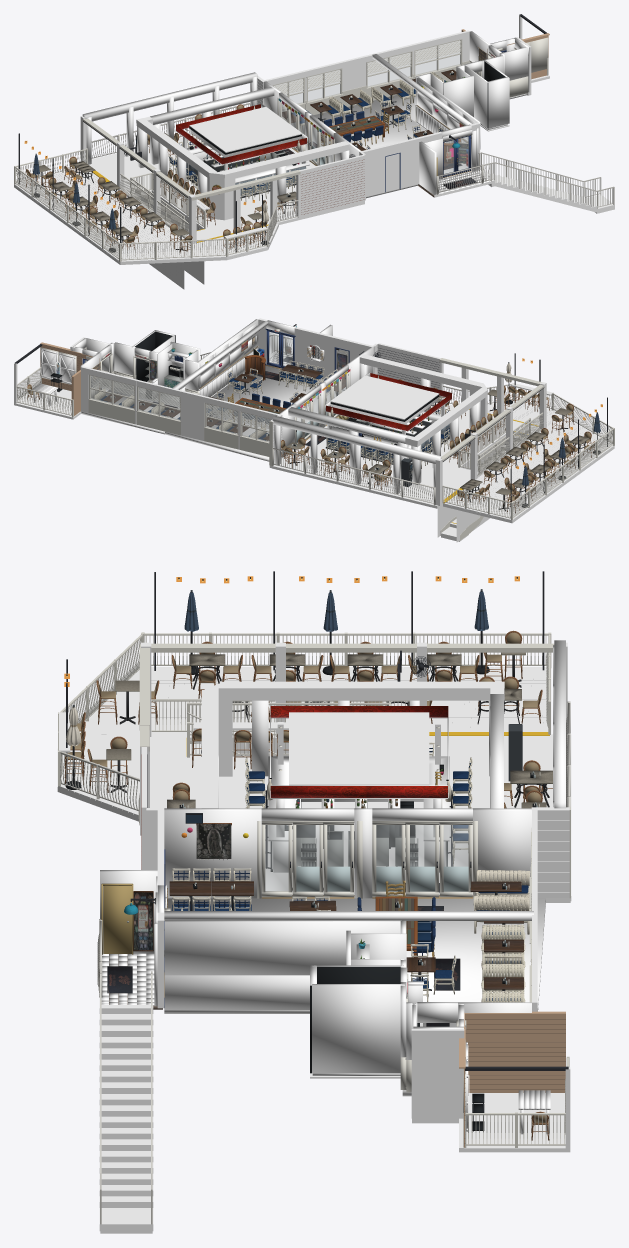
File: dollhouse-working-f12.glb
3 renders of one model, top to bottom at view 1: azimuth 30°, elevation 25°; view 2: azimuth 150°, elevation 25°; view 3: azimuth 270°, elevation 25°, orthographic. The views are drawn at different scales.
Visible parts, largest first — view 1: Main deck parallel to gable | timber planks, Upper terrazzo floor beside stair cutout 2, Short coral end wall beside high-top, Bar head | recessed upper cover, Arcade | continuous wraparound ochre fascia, Dining concrete slab and continuous amber finish, Bowed white outer deck rail, Street wrap with changed grain direction | timber planks, Covered marina white opening header, Stair | entry ivory guard and pickets street side, Stair | blue entry continuous concrete flight and lower land, Red dropped bar canopy with open railed center (+36 smaller); view 2: Main deck parallel to gable | timber planks, Upper terrazzo floor beside stair cutout 2, Bar head | recessed upper cover, Dining concrete slab and continuous amber finish, Arcade | continuous wraparound ochre fascia, Bowed white outer deck rail, Covered marina white opening header, Red dropped bar canopy with open railed center, White-brick dining wall section 2, Short coral end wall beside high-top, Street wrap with changed grain direction | timber planks, Ochre colonnade rough stucco beam.001 (+48 smaller); view 3: Stair | blue entry continuous concrete flight and lower land, Navy host wall raised panel backing, Bar head | recessed upper cover, Upper terrazzo floor beside stair cutout 2, Main deck parallel to gable | timber planks, Dark kitchen recess return.001, Arcade | continuous wraparound ochre fascia, Peach return on right of blue marina door, Dining concrete slab and continuous amber finish, Bar-side door pier, Street wrap with changed grain direction | timber planks, Navy host wall lower field (+41 smaller).
Boxes of the visible parts, x1,y1,x2,y2 form: Main deck parallel to gable | timber planks: (14,168,190,261); Upper terrazzo floor beside stair cutout 2: (105,135,364,236); Short coral end wall beside high-top: (299,154,364,216); Bar head | recessed upper cover: (189,107,302,152); Arcade | continuous wraparound ochre fascia: (136,118,349,180); Dining concrete slab and continuous amber finish: (291,100,468,198); Bowed white outer deck rail: (14,166,121,261); Street wrap with changed grain direction | timber planks: (120,223,278,262); Covered marina white opening header: (82,72,257,121); Stair | entry ivory guard and pickets street side: (490,162,614,208); Stair | blue entry continuous concrete flight and lower land: (478,170,614,212); Red dropped bar canopy with open railed center: (176,104,306,164); Main deck parallel to gable | timber planks: (443,429,613,520); Upper terrazzo floor beside stair cutout 2: (271,402,520,503); Bar head | recessed upper cover: (330,375,439,419); Dining concrete slab and continuous amber finish: (165,365,345,461); Arcade | continuous wraparound ochre fascia: (359,354,487,447); Bowed white outer deck rail: (511,427,613,519); Covered marina white opening header: (272,416,441,463); Red dropped bar canopy with open railed center: (326,373,451,431); White-brick dining wall section 2: (294,327,335,378); Short coral end wall beside high-top: (377,343,440,402); Street wrap with changed grain direction | timber planks: (487,401,612,444); Ochre colonnade rough stucco beam.001: (288,407,408,443); Stair | blue entry continuous concrete flight and lower land: (99,1005,153,1231); Navy host wall raised panel backing: (164,920,401,975); Bar head | recessed upper cover: (289,712,429,785); Upper terrazzo floor beside stair cutout 2: (150,756,571,900); Main deck parallel to gable | timber planks: (151,667,548,734); Dark kitchen recess return.001: (312,984,404,1073); Arcade | continuous wraparound ochre fascia: (201,681,504,808); Peach return on right of blue marina door: (465,1011,565,1092); Dining concrete slab and continuous amber finish: (164,898,545,1013); Bar-side door pier: (164,808,261,898); Street wrap with changed grain direction | timber planks: (58,670,139,816); Navy host wall lower field: (164,975,309,1009).
Size of the model in its own units: 31.35 by 6.37 by 14.11.
Materials: 147 (40 with a texture image).
